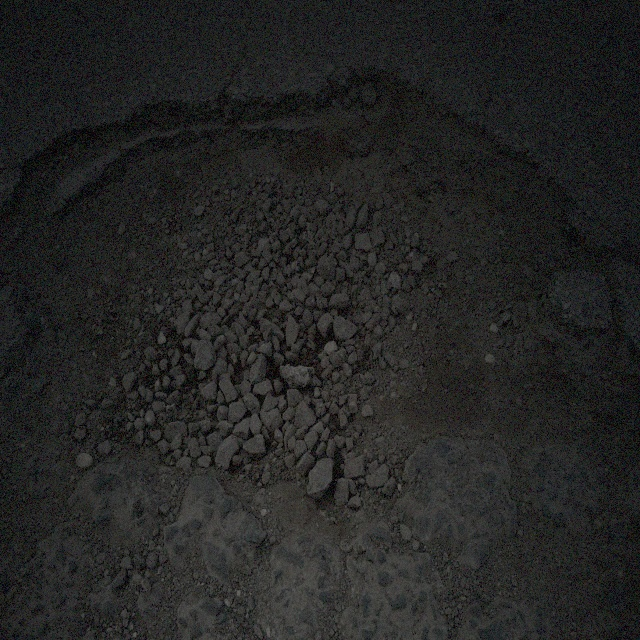pothole: (3, 56, 584, 554)
